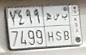4: (18, 8, 27, 48)
7: (9, 7, 19, 49)
9: (34, 5, 45, 47)
B: (61, 12, 71, 43)
H: (45, 12, 54, 44)
